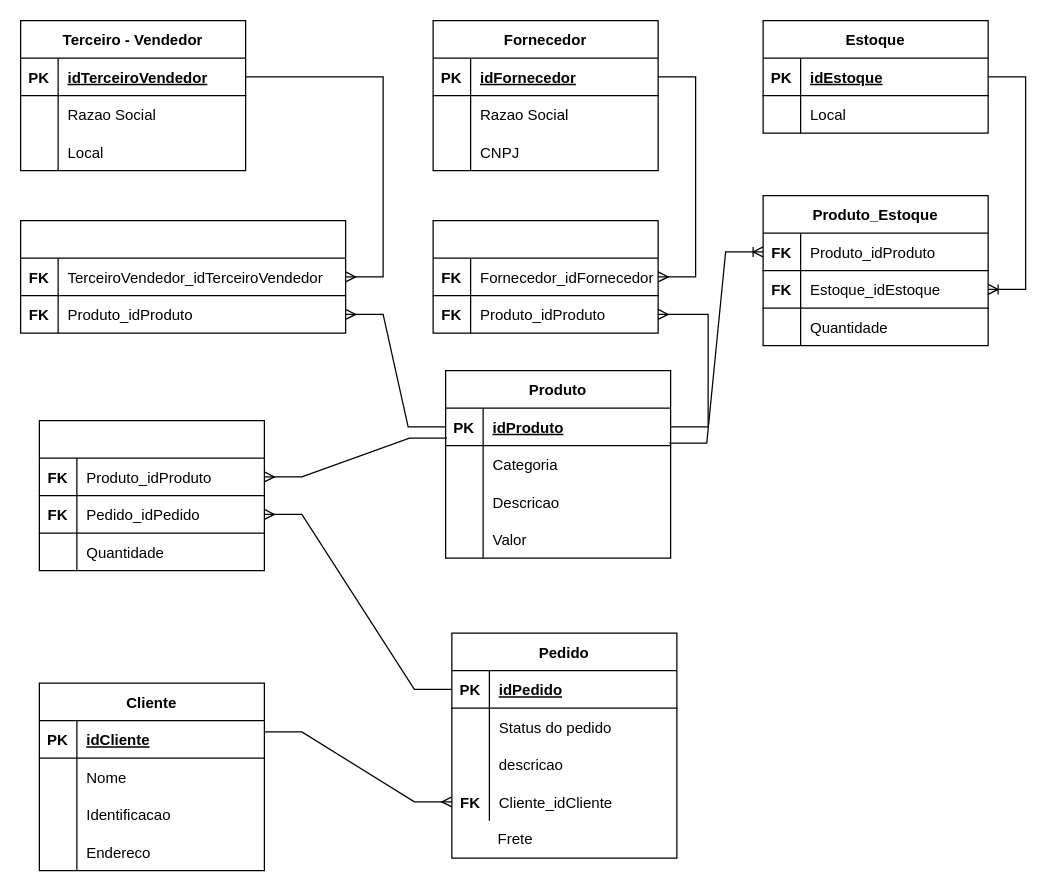
Image size: 1046x891. Some labels were removed from this diagram. The shapes that lost their labels are listed below. From the top down, each one's box as (x1, y1, x2, y2) in pixels, then its label:
(19, 219, 346, 333): Produtos por Vendedor
(432, 219, 658, 333): Disponibilizando um produto
(38, 419, 264, 571): Relação de Produto/pedido
